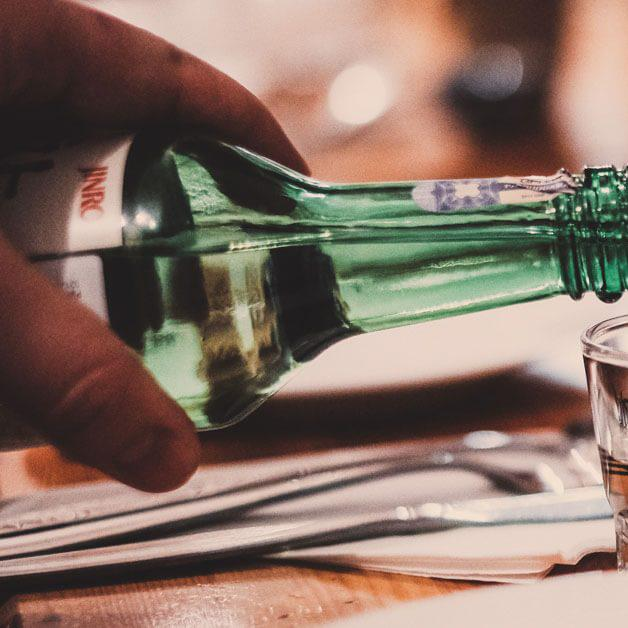soju: (5, 129, 628, 451)
